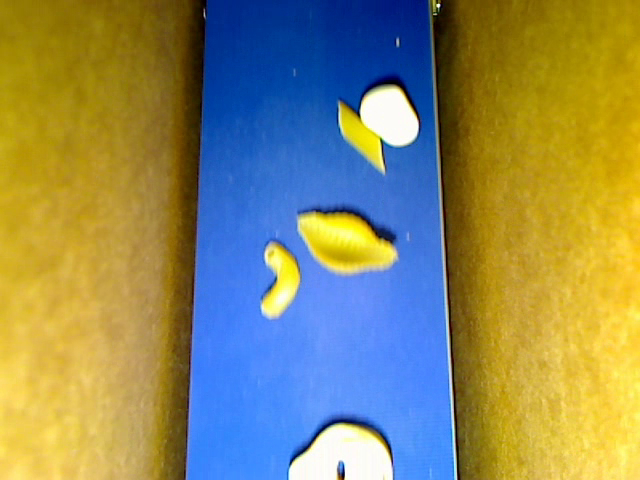elbow: (261, 240, 300, 318)
penne: (337, 100, 384, 173)
shell: (297, 211, 397, 275)
tortellini: (287, 422, 393, 479)
